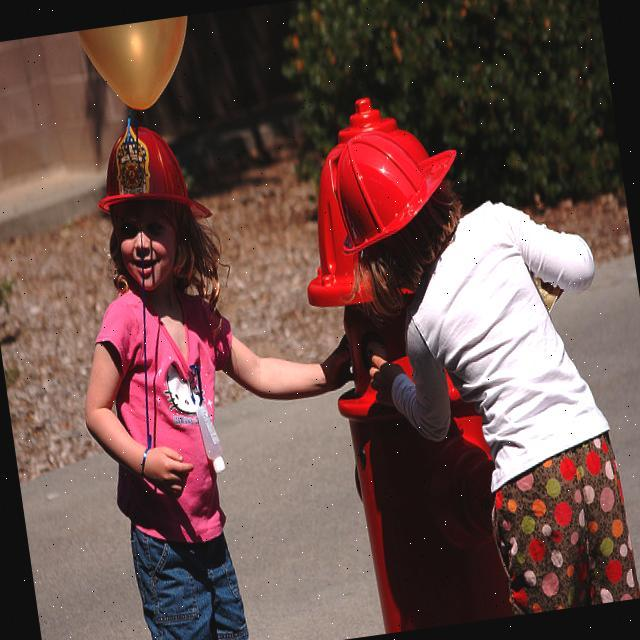fire_hydrant: (281, 84, 517, 638)
